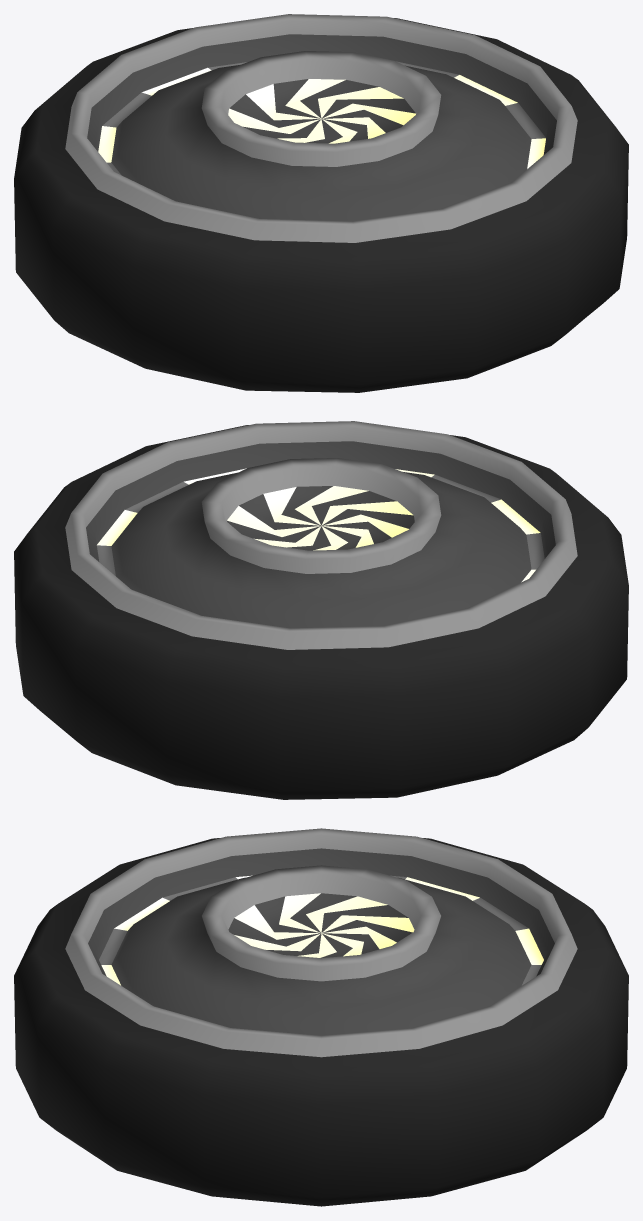
Rendered from PH_PuckLow.fbx.
3 views of the same model, one above another, from view 1: azimuth 30°, elevation 25°; view 2: azimuth 150°, elevation 25°; view 3: azimuth 270°, elevation 25° (orthographic).
Visible parts, largest first — view 1: mesh_MiniGame_Hockey_Puck; view 2: mesh_MiniGame_Hockey_Puck; view 3: mesh_MiniGame_Hockey_Puck.
Boxes of the visible parts, x1,y1,x2,y2 form: mesh_MiniGame_Hockey_Puck: [14, 14, 628, 392]; mesh_MiniGame_Hockey_Puck: [14, 421, 628, 799]; mesh_MiniGame_Hockey_Puck: [14, 828, 628, 1206].
Bounding box in the file's own units: 2.41 × 0.7277 × 2.41.
